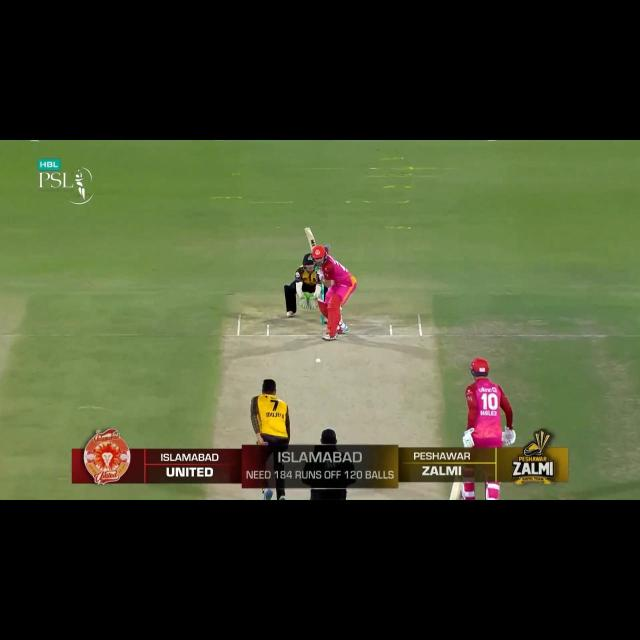bat: (302, 227, 318, 249), (449, 481, 466, 499)
toe: (302, 227, 310, 234)
